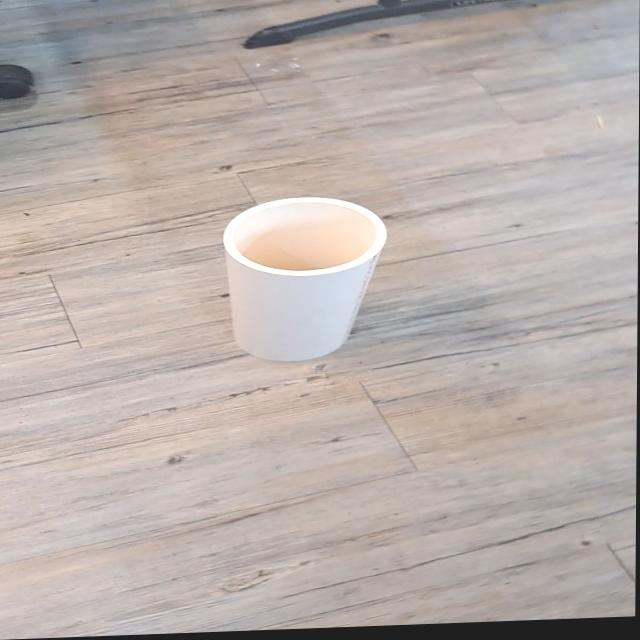CORAL: (193, 177, 413, 378)
